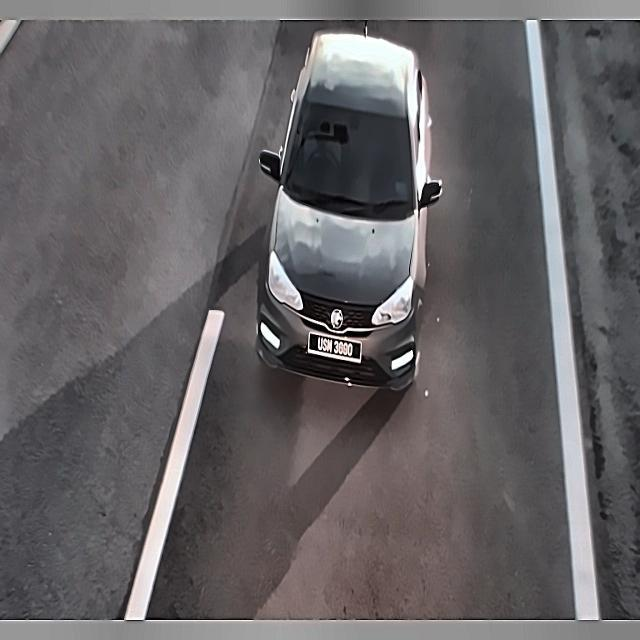car: (306, 322, 362, 372)
